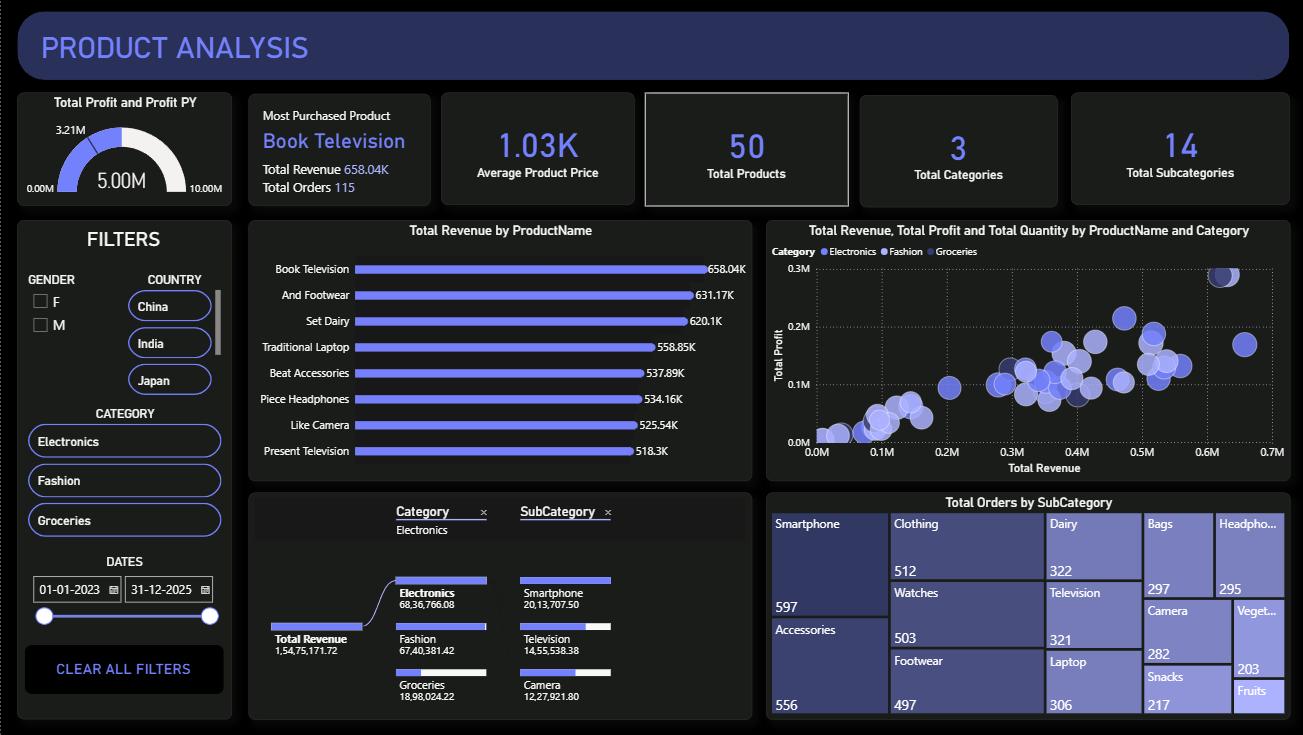

Layout of this report page (visuals, bound fields, positions):
{"tool":"powerbi","page":{"name":"Product Analysis","canvas":[1920,1080],"ordinal":1},"visuals":[{"type":"shape","box":[24.7,16.5,1866.9,100.9],"z":0},{"type":"clusteredBarChart","fields":{"Category":["products.ProductName"],"Y":["Measures Table.Total Revenue"]},"box":[362.3,323.2,738.9,382.8],"z":1000},{"type":"decompositionTreeVisual","fields":{"ExplainBy":["products.Category","products.SubCategory"],"Analyze":["Measures Table.Total Revenue"]},"box":[362.3,722.5,738.9,333.4],"z":2000},{"type":"treemap","fields":{"Group":["products.Category","products.SubCategory"],"Values":["Measures Table.Total Orders"]},"box":[1121.8,722.5,769.8,333.4],"z":3000},{"type":"scatterChart","fields":{"Y":["Measures Table.Total Profit"],"X":["Measures Table.Total Revenue"],"Category":["products.ProductName"],"Size":["Measures Table.Total Quantity"],"Series":["products.Category"]},"box":[1121.8,323.2,769.8,382.8],"z":4000},{"type":"textbox","box":[53.5,41.2,504.3,59.7],"z":5000},{"type":"group","id":"g1","title":"Group 1","box":[24.7,323.2,314.9,732.8],"z":6000},{"type":"gauge","fields":{"Y":["Measures Table.Total Profit"],"TargetValue":["Measures Table.Profir PY"]},"box":[24.7,135.8,314.9,166.7],"z":7000},{"type":"cardVisual","fields":{"Data":["Min(products.ProductName)"]},"box":[362.3,137.9,267.6,164.7],"z":8000},{"type":"card","fields":{"Values":["Measures Table.Total Products"]},"box":[944.8,135.8,298.5,166.7],"z":9000},{"type":"card","fields":{"Values":["Measures Table.Total Categories"]},"box":[1259.7,140,290.2,164.7],"z":10000},{"type":"shape","box":[24.7,323.2,314.9,732.8],"z":10000,"group":"g1"},{"type":"card","fields":{"Values":["Measures Table.Total Subcategories"]},"box":[1570.5,135.8,321.1,164.7],"z":11000},{"type":"card","fields":{"Values":["Measures Table.Average Product Price"]},"box":[646.3,135.8,284,164.7],"z":12000},{"type":"advancedSlicerVisual","title":"COUNTRY","fields":{"Values":["stores.Country"]},"box":[183.2,399.4,146.1,187.3],"z":12000,"group":"g1"},{"type":"advancedSlicerVisual","title":"CATEGORY","fields":{"Values":["products.Category"]},"box":[35,597,294.3,199.7],"z":13000,"group":"g1"},{"type":"slicer","title":"GENDER","fields":{"Values":["customers.Gender"]},"box":[35,399.4,148.2,160.5],"z":14000,"group":"g1"},{"type":"slicer","title":"DATES","fields":{"Values":["Dates.Date"]},"box":[35,815.1,292.3,117.3],"z":15000,"group":"g1"},{"type":"shape","title":"CLEAR ALL FILTER","box":[35,946.9,292.3,72],"z":16000,"group":"g1"},{"type":"textbox","box":[53.5,965.4,253.2,35],"z":17000,"group":"g1"},{"type":"textbox","box":[39.1,328,282,43.2],"z":18000,"group":"g1"}]}

Visuals, with their boxes in screenshot pixels (x1, y1, x2, y2), scaled from the page's 1920x1080 canvas onto the 1303x735 screenshot:
shape: x1=17 y1=11 x2=1284 y2=80
clusteredBarChart - products.ProductName x Measures Table.Total Revenue: x1=246 y1=220 x2=747 y2=480
decompositionTreeVisual - products.Category x products.SubCategory: x1=246 y1=492 x2=747 y2=719
treemap - products.Category x products.SubCategory: x1=761 y1=492 x2=1284 y2=719
scatterChart - Measures Table.Total Profit x Measures Table.Total Revenue: x1=761 y1=220 x2=1284 y2=480
textbox: x1=36 y1=28 x2=379 y2=69
"Group 1" group: x1=17 y1=220 x2=230 y2=719
gauge - Measures Table.Total Profit x Measures Table.Profir PY: x1=17 y1=92 x2=230 y2=206
cardVisual - Min(products.ProductName): x1=246 y1=94 x2=427 y2=206
card - Measures Table.Total Products: x1=641 y1=92 x2=844 y2=206
card - Measures Table.Total Categories: x1=855 y1=95 x2=1052 y2=207
shape: x1=17 y1=220 x2=230 y2=719
card - Measures Table.Total Subcategories: x1=1066 y1=92 x2=1284 y2=205
card - Measures Table.Average Product Price: x1=439 y1=92 x2=631 y2=205
"COUNTRY" advancedSlicerVisual: x1=124 y1=272 x2=223 y2=399
"CATEGORY" advancedSlicerVisual: x1=24 y1=406 x2=223 y2=542
"GENDER" slicer: x1=24 y1=272 x2=124 y2=381
"DATES" slicer: x1=24 y1=555 x2=222 y2=635
"CLEAR ALL FILTER" shape: x1=24 y1=644 x2=222 y2=693
textbox: x1=36 y1=657 x2=208 y2=681
textbox: x1=27 y1=223 x2=218 y2=253
